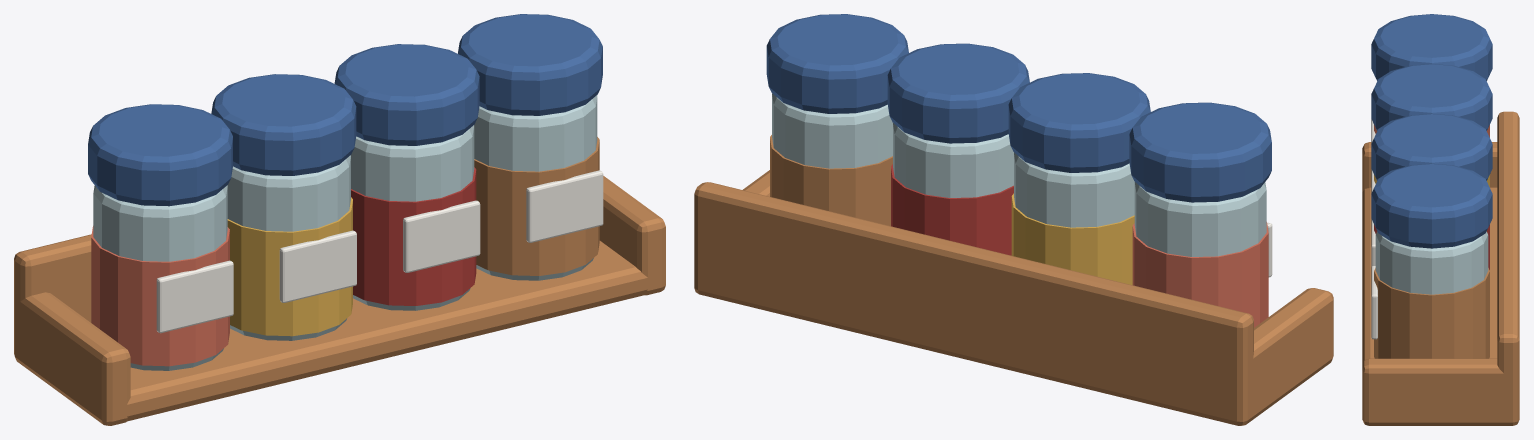
Rendered from hh_cat_spice_jars.glb.
3 views of the same model, side by side, from view 1: azimuth 30°, elevation 25°; view 2: azimuth 150°, elevation 25°; view 3: azimuth 270°, elevation 25° (orthographic). The views are drawn at different scales.
Visible parts, largest first — view 1: rack, lid, lid.002, lid.001, lid.003, spice, spice.003, spice.001, spice.002, rack_end, jar, jar.003 (+8 smaller); view 2: rack_back, lid, lid.002, lid.003, lid.001, rack_end, spice, jar, jar.003, jar.001, jar.002, rack (+4 smaller); view 3: rack_end.001, lid.003, spice.003, rack_back, lid, lid.001, lid.002, jar.003, rack, rack_end, label.003, label.002.
Part boxes in pixels (left/top/right/bottom): rack: left=15, top=241, right=660, bottom=421; lid: left=88, top=104, right=232, bottom=206; lid.002: left=334, top=44, right=479, bottom=145; lid.001: left=211, top=74, right=356, bottom=175; lid.003: left=458, top=14, right=602, bottom=115; spice: left=91, top=226, right=229, bottom=366; spice.003: left=474, top=137, right=599, bottom=275; spice.001: left=227, top=197, right=352, bottom=336; spice.002: left=351, top=167, right=476, bottom=305; rack_end: left=14, top=292, right=130, bottom=425; jar: left=93, top=185, right=227, bottom=370; jar.003: left=474, top=95, right=597, bottom=280; rack_back: left=694, top=182, right=1253, bottom=425; lid: left=1129, top=102, right=1271, bottom=202; lid.002: left=887, top=43, right=1029, bottom=143; lid.003: left=766, top=14, right=908, bottom=113; lid.001: left=1008, top=73, right=1150, bottom=172; rack_end: left=1223, top=288, right=1333, bottom=425; spice: left=1132, top=222, right=1268, bottom=327; jar: left=1134, top=182, right=1266, bottom=256; jar.003: left=772, top=93, right=892, bottom=168; jar.001: left=1014, top=152, right=1134, bottom=227; jar.002: left=893, top=123, right=1013, bottom=197; rack: left=699, top=277, right=1235, bottom=419; rack_end.001: left=1362, top=358, right=1519, bottom=425; lid.003: left=1371, top=163, right=1492, bottom=248; spice.003: left=1374, top=268, right=1489, bottom=358; rack_back: left=1497, top=111, right=1519, bottom=425; lid: left=1371, top=14, right=1492, bottom=80; lid.001: left=1371, top=64, right=1492, bottom=130; lid.002: left=1371, top=113, right=1492, bottom=180; jar.003: left=1375, top=231, right=1488, bottom=294; rack: left=1362, top=187, right=1511, bottom=421; rack_end: left=1362, top=142, right=1497, bottom=191; label.003: left=1371, top=266, right=1377, bottom=339; label.002: left=1371, top=219, right=1375, bottom=266.
Size of the model in its own units: 0.24 by 0.1 by 0.07.
